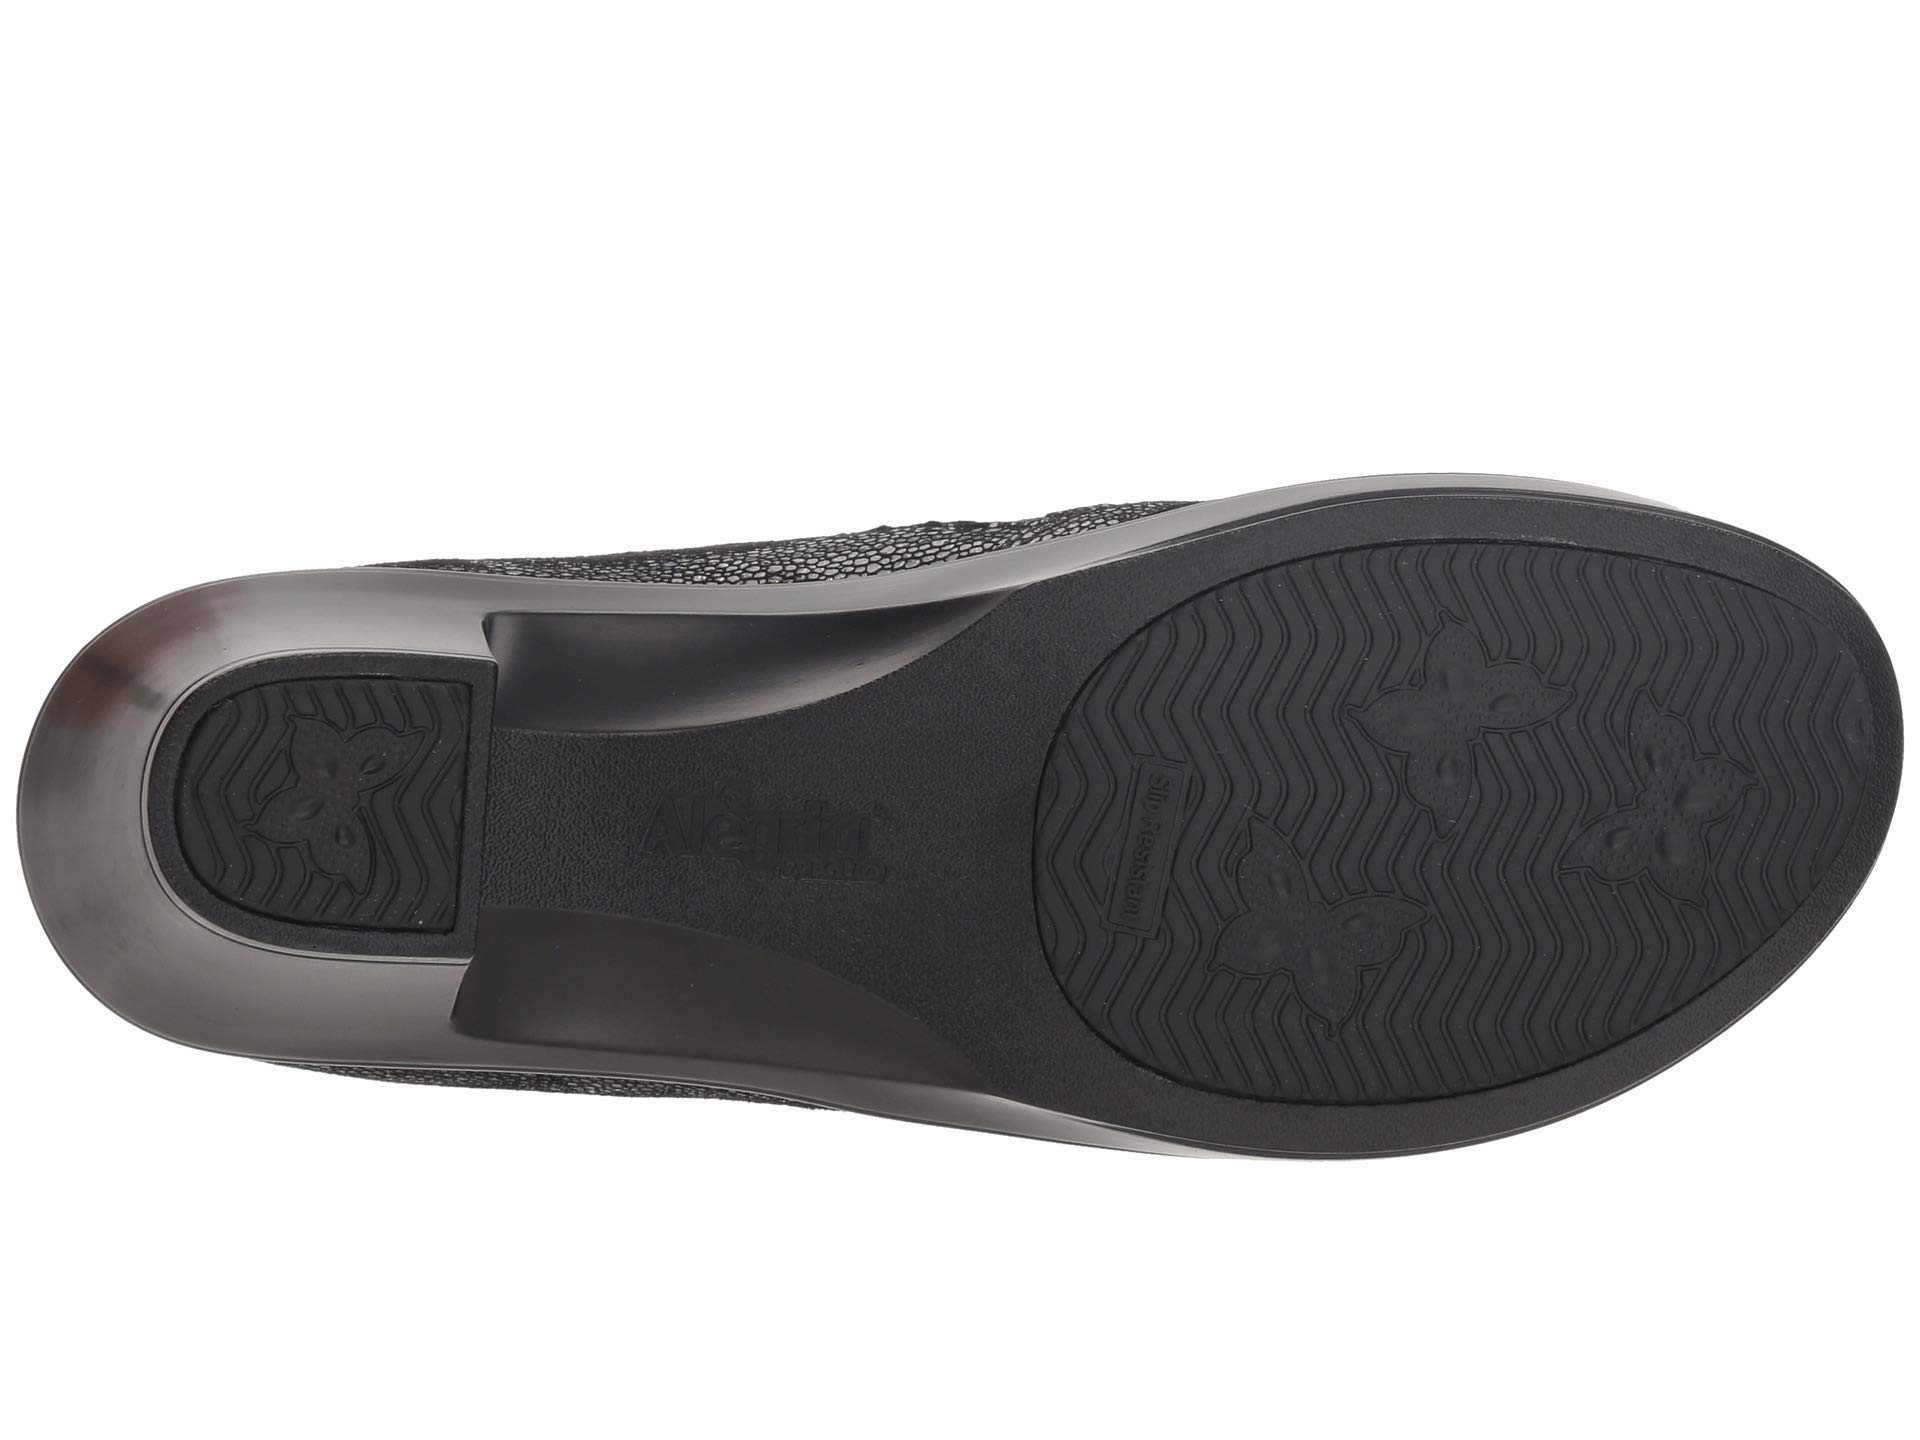chevron: (1089, 697, 1228, 1044), (1554, 570, 1790, 715), (1246, 591, 1373, 833), (1445, 877, 1592, 1054), (1714, 746, 1838, 921), (206, 709, 287, 900), (384, 755, 460, 924)
quad: (1089, 697, 1228, 1044)
text: (1089, 697, 1228, 1044)
